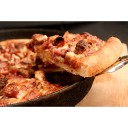pepperonipizza: (4, 34, 125, 95)
